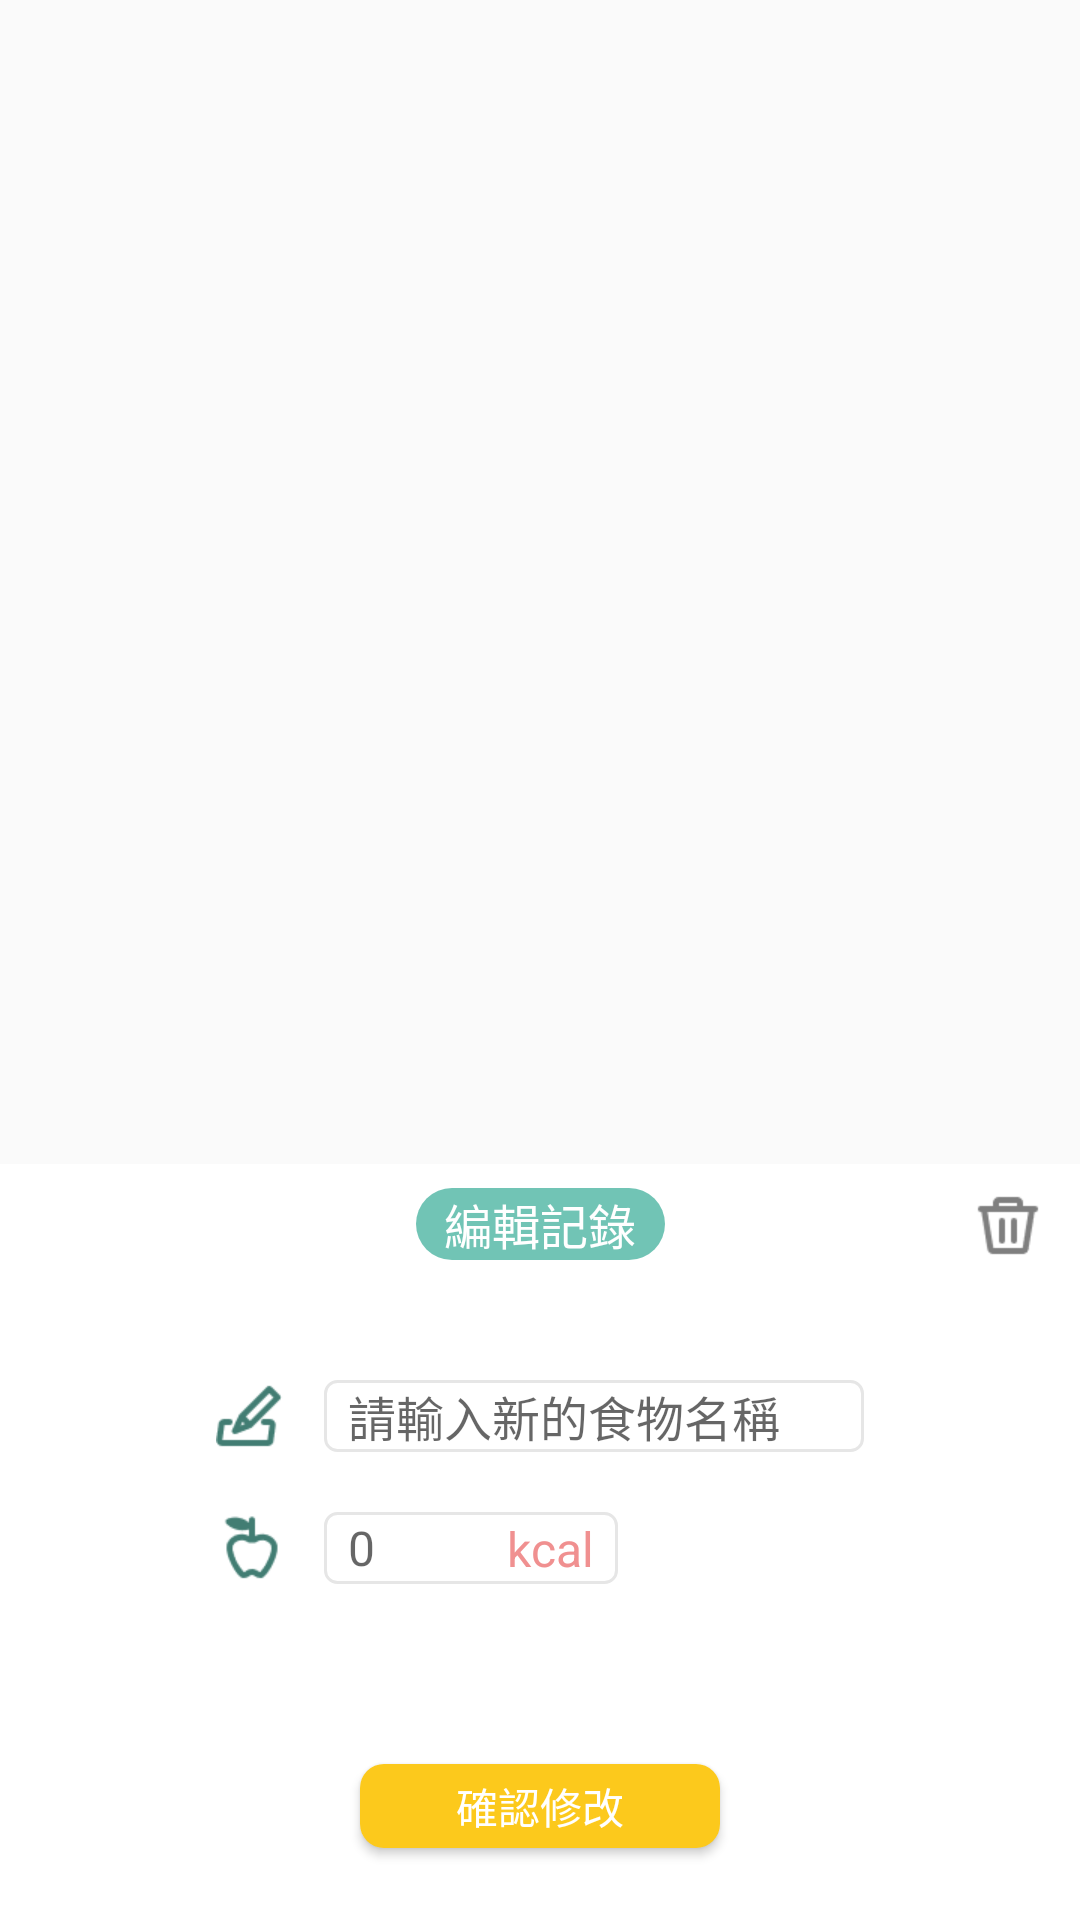

Icon click points for this 1080*1920 phone screenshot, format (x=x, y=y):
apple: (x=251, y=1547)
edit: (x=248, y=1416)
trash can: (x=1008, y=1225)
